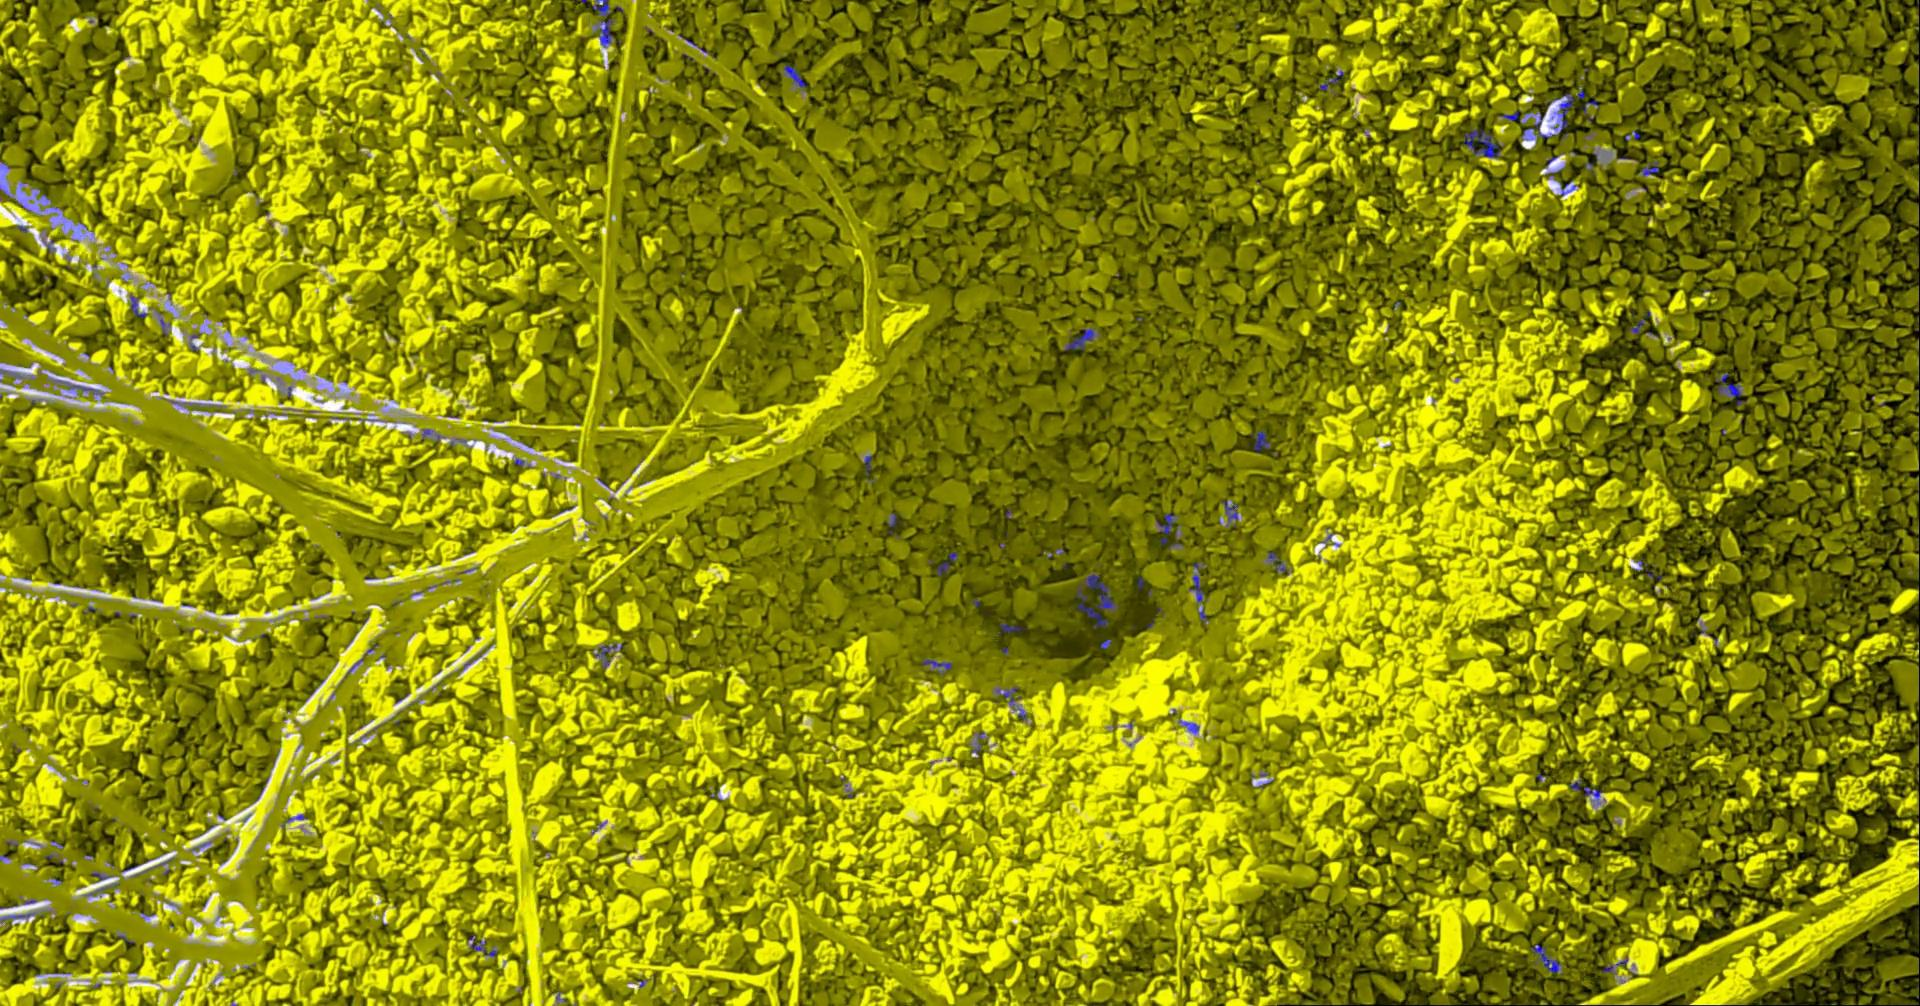ant: (1077, 573, 1119, 627), (1556, 88, 1586, 138), (1464, 128, 1503, 158), (1717, 372, 1749, 405), (594, 0, 615, 47), (1533, 942, 1563, 973), (1523, 111, 1556, 138), (1065, 326, 1100, 351), (594, 643, 623, 669), (1571, 777, 1604, 799), (1157, 512, 1178, 542), (469, 935, 499, 956), (1636, 559, 1663, 579), (785, 64, 808, 88), (923, 657, 952, 674), (998, 686, 1023, 706), (1269, 551, 1290, 574), (1252, 429, 1272, 453), (938, 551, 959, 575), (1321, 71, 1346, 90), (1190, 574, 1205, 602), (1223, 499, 1239, 525), (131, 295, 149, 318), (1604, 956, 1629, 972), (69, 385, 104, 394), (888, 513, 903, 533), (999, 622, 1027, 633), (1630, 318, 1647, 334), (866, 455, 876, 481), (1643, 160, 1660, 175), (1501, 109, 1523, 119)
